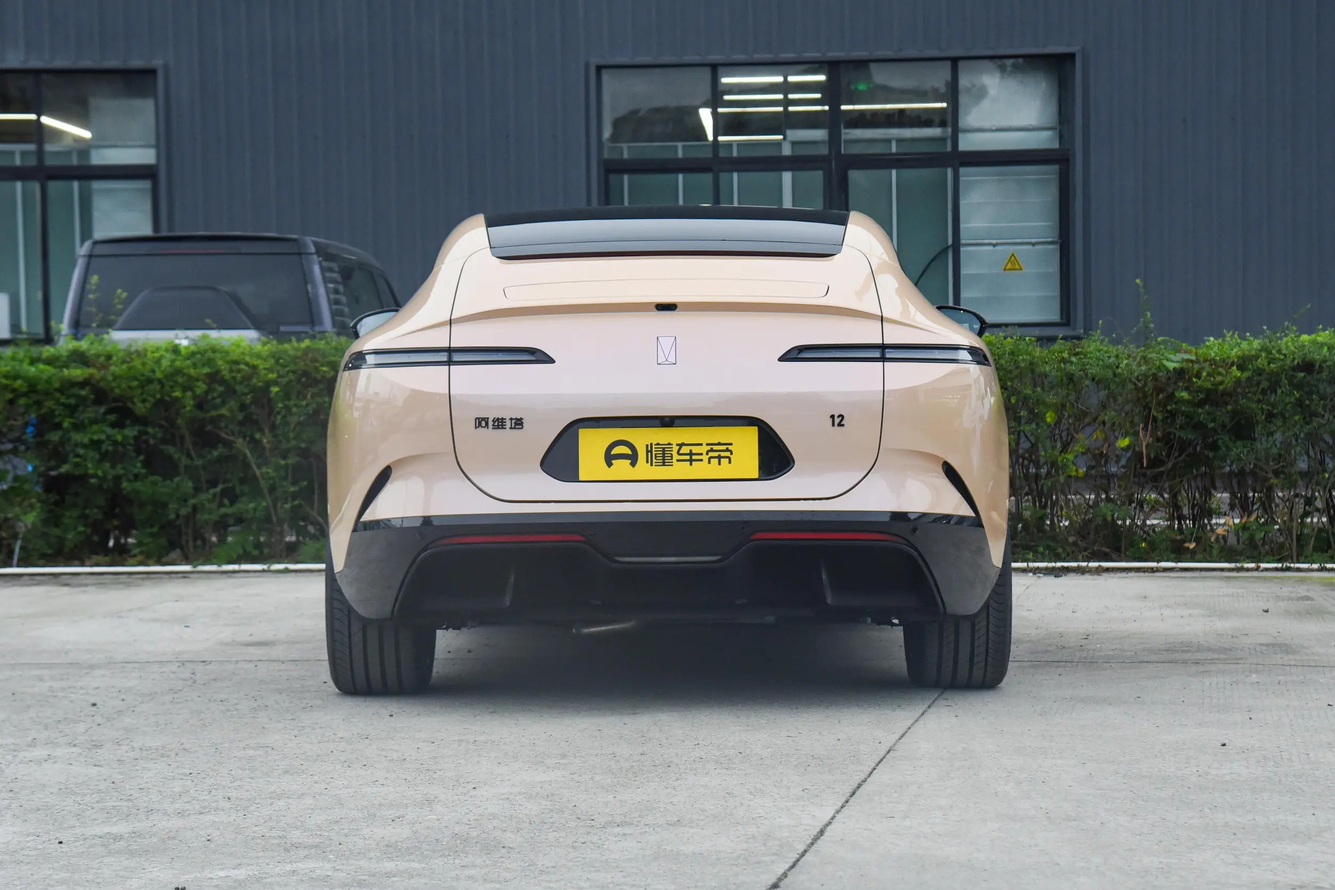AVATR: (657, 336, 677, 364)
